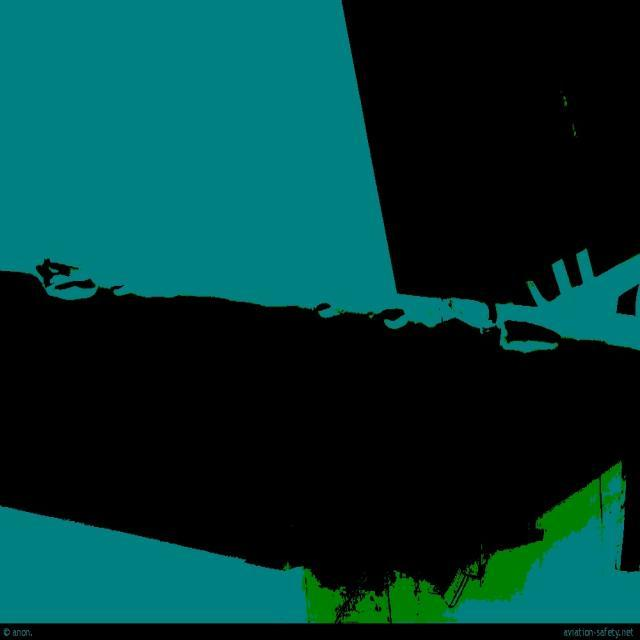dent: (32, 259, 96, 307), (497, 324, 566, 359), (379, 304, 414, 332), (320, 302, 348, 321)
